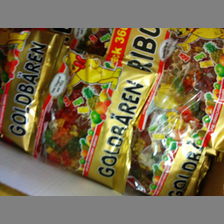candy: (7, 36, 159, 192)
